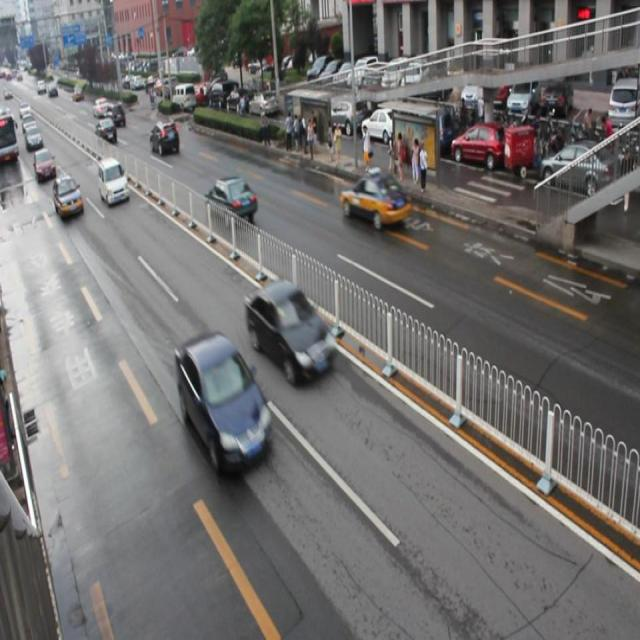car: (174, 331, 273, 471), (244, 278, 337, 387), (338, 165, 412, 232), (204, 174, 257, 222), (98, 156, 130, 206), (53, 172, 83, 218), (150, 120, 179, 156), (34, 148, 58, 180)
